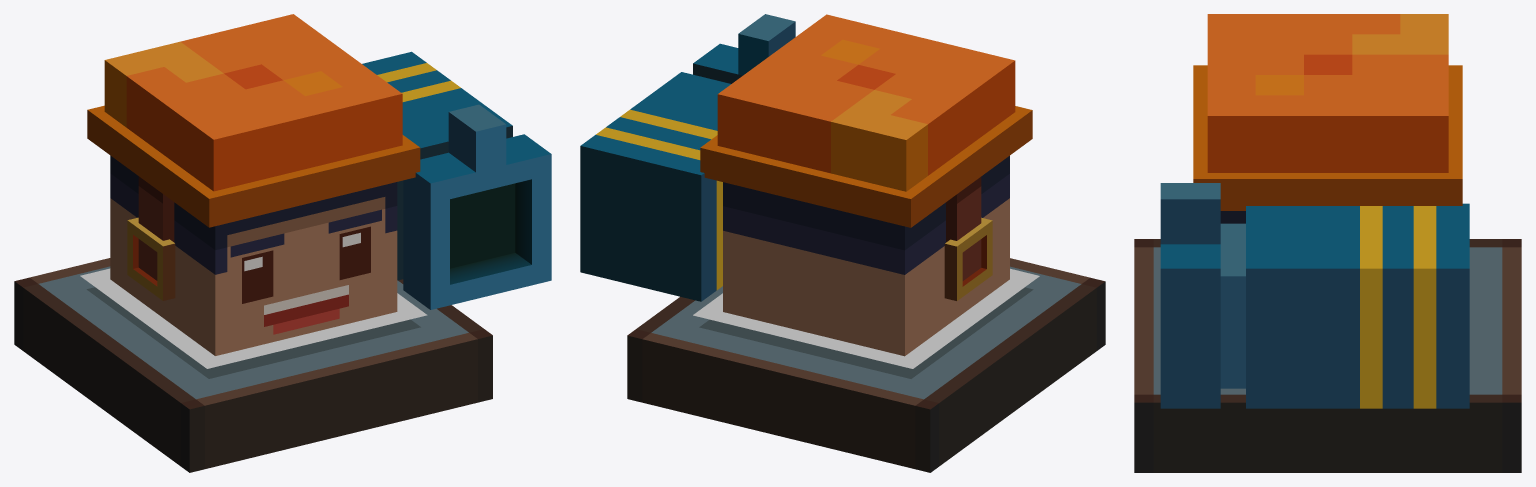
The model's file is Tower_Soldier_LVL3.fbx.
The picture shows the model from 3 angles, left to right: view 1: azimuth 30°, elevation 25°; view 2: azimuth 150°, elevation 25°; view 3: azimuth 270°, elevation 25°; orthographic projection. The views are drawn at different scales.
Visible parts, largest first — view 1: Base, Hat, Body, Weapon, shadow, Buckle_Right, Sight; view 2: Base, Hat, Body, Weapon, shadow, Buckle_Right, Sight; view 3: Weapon, Hat, Base, Sight.
Part boxes in pixels (<box>): Base: <box>14,258,492,472</box>; Hat: <box>87,14,420,227</box>; Body: <box>110,155,397,355</box>; Weapon: <box>362,51,551,309</box>; shadow: <box>80,268,427,368</box>; Buckle_Right: <box>127,176,175,300</box>; Sight: <box>448,104,506,172</box>; Base: <box>627,258,1105,472</box>; Hat: <box>700,14,1032,227</box>; Body: <box>723,156,1009,356</box>; Weapon: <box>580,43,742,301</box>; shadow: <box>693,268,1039,368</box>; Buckle_Right: <box>944,177,992,300</box>; Sight: <box>738,14,795,75</box>; Weapon: <box>1160,203,1469,408</box>; Hat: <box>1193,14,1462,210</box>; Base: <box>1134,239,1521,472</box>; Sight: <box>1160,183,1220,244</box>.
Size of the model in its own units: 123 by 92.86 by 100.
